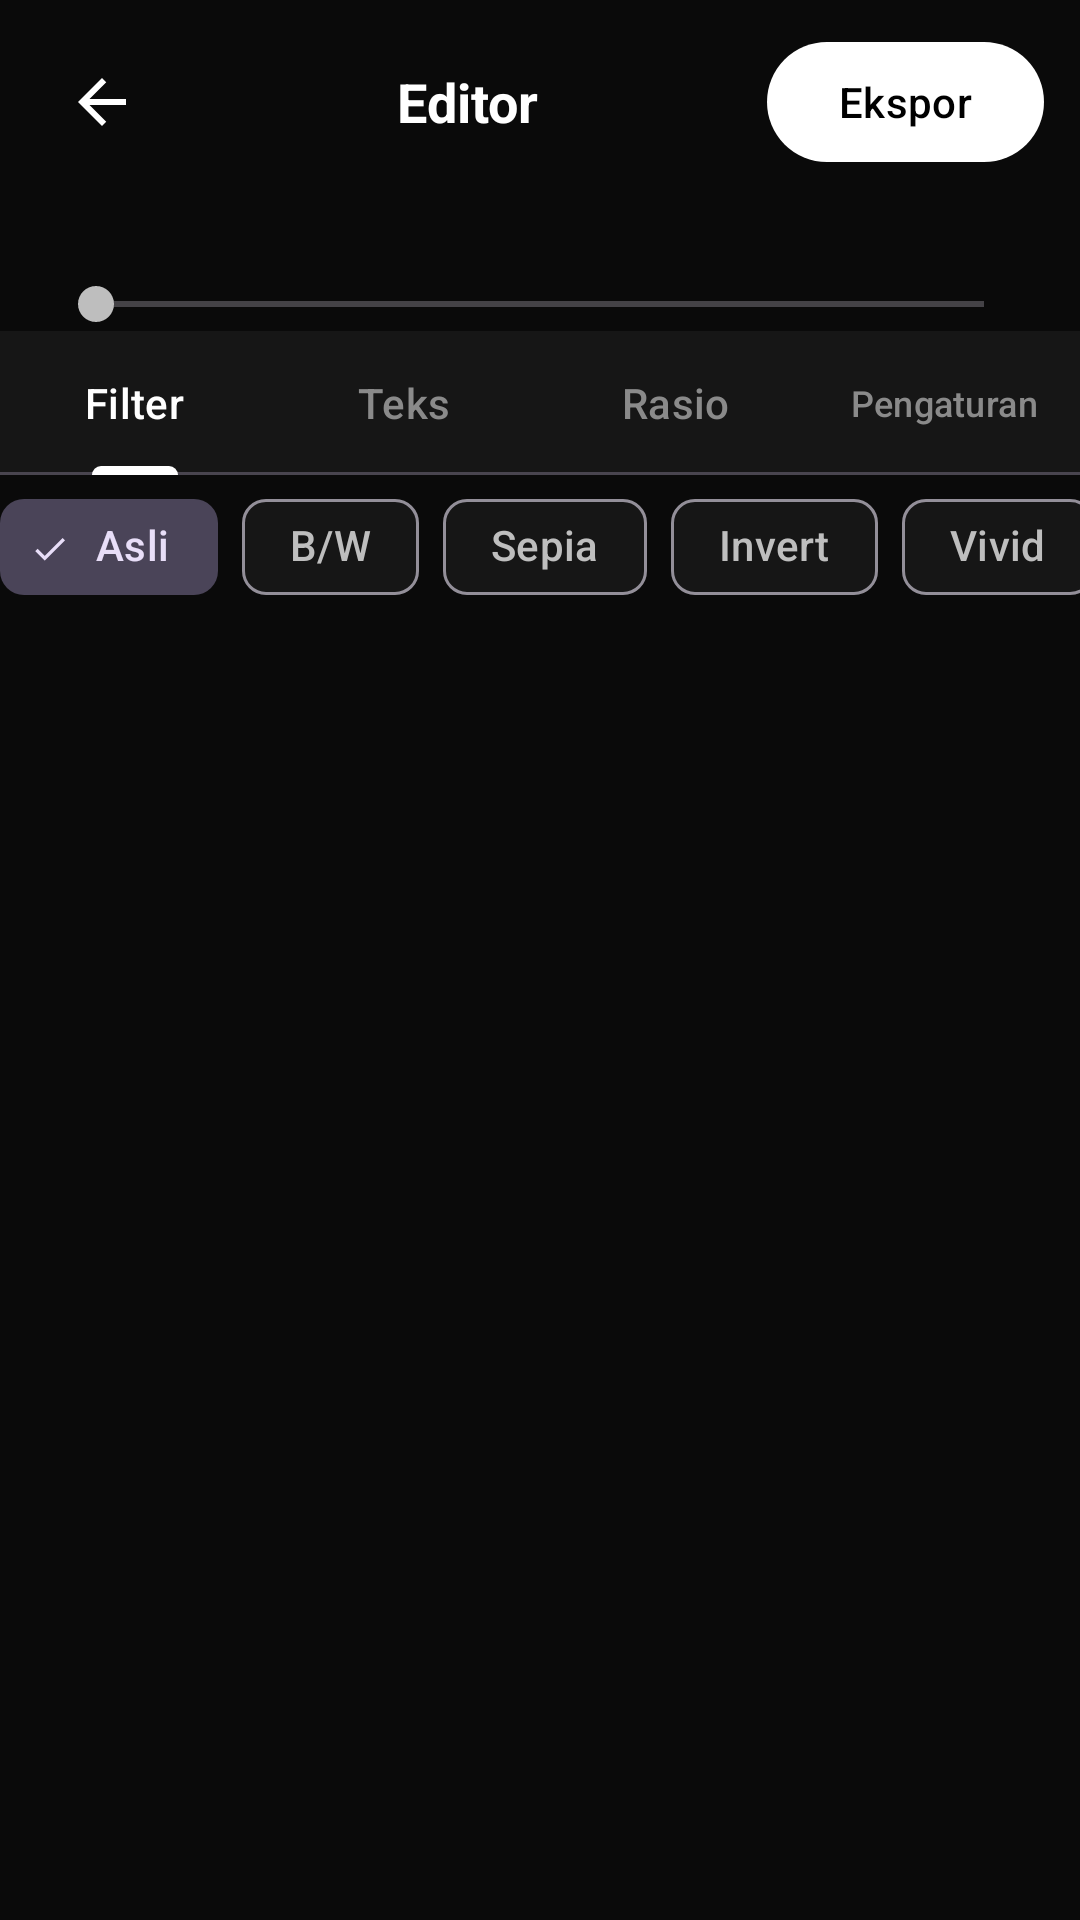

Where to tap for icons on this 1080w x 1920h app screen, as point (x, y):
Back: point (102, 102)
